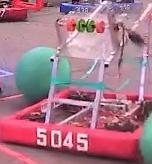red_number: (35, 126, 91, 153)
